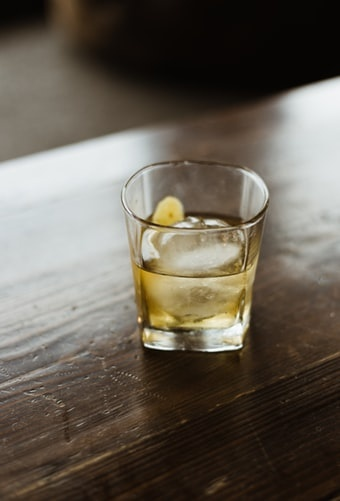whiskey: (122, 162, 270, 355)
